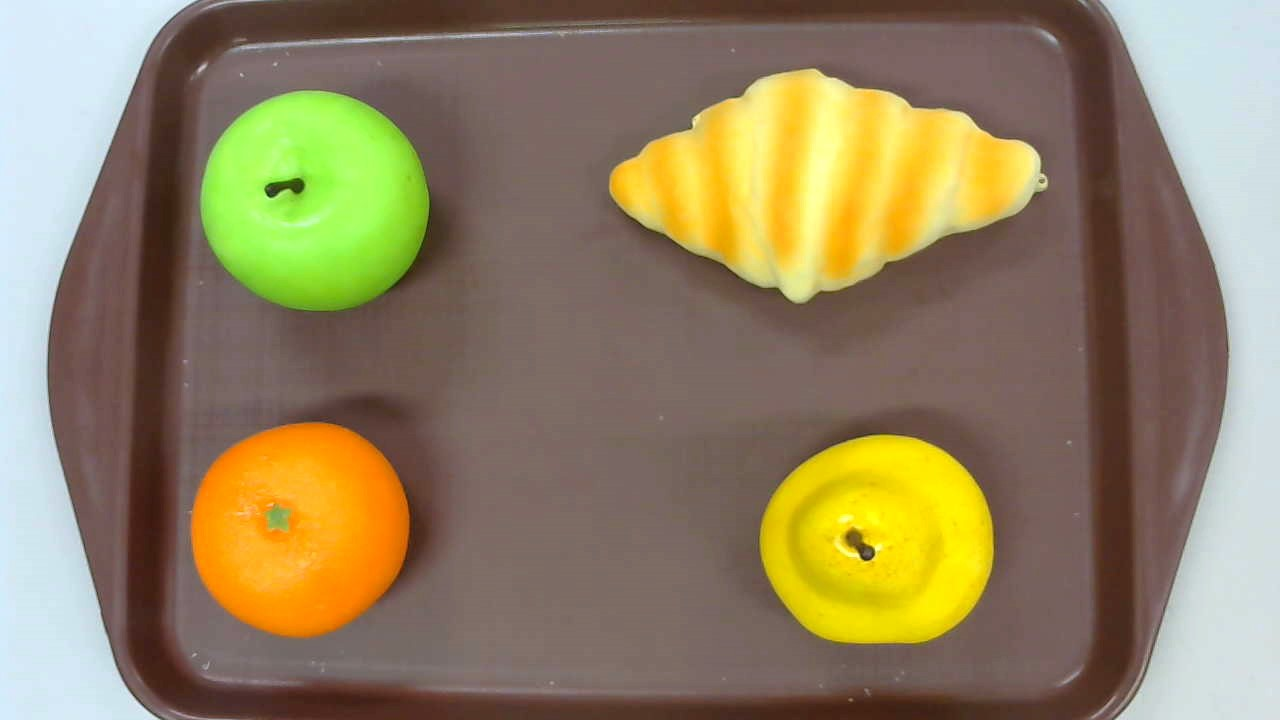croissant: (608, 67, 1047, 304)
green apple: (199, 87, 430, 311)
orange: (191, 421, 410, 638)
yellow pear: (759, 435, 995, 644)
